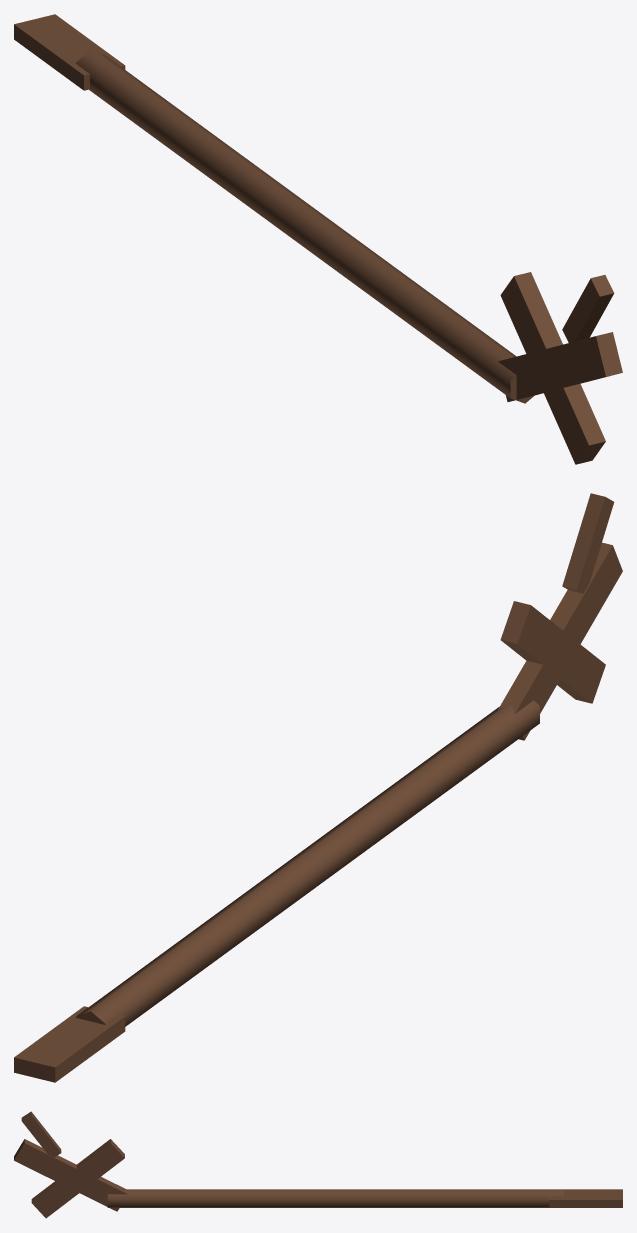
The model's file is Crowbar.gltf.
3 renders of one model, top to bottom at view 1: azimuth 30°, elevation 25°; view 2: azimuth 150°, elevation 25°; view 3: azimuth 270°, elevation 25°, orthographic. The views are drawn at different scales.
Parts seen in each view (by area): view 1: WeaponCrowbar; view 2: WeaponCrowbar; view 3: WeaponCrowbar.
Boxes of the visible parts, x1,y1,x2,y2 form: WeaponCrowbar: (14, 14, 622, 464); WeaponCrowbar: (14, 493, 622, 1082); WeaponCrowbar: (14, 1111, 622, 1218).
Bounding box in the file's own units: 0.034 × 0.1547 × 0.8274.
